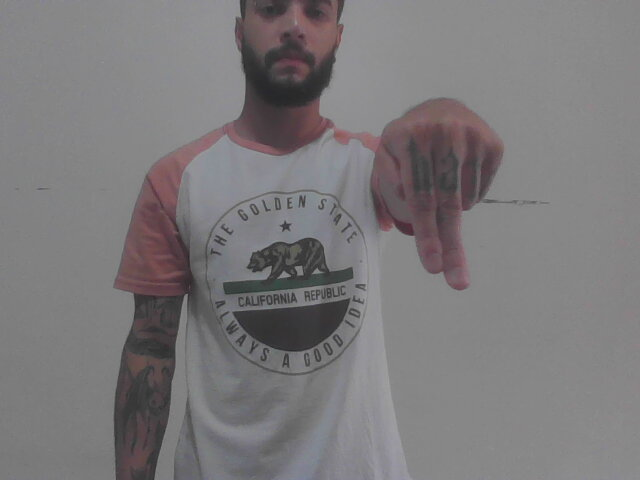n: (377, 89, 511, 303)
